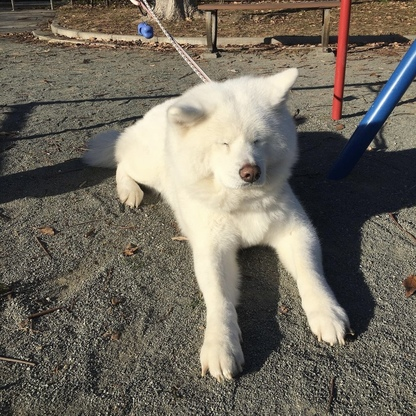akita: (73, 64, 363, 386)
